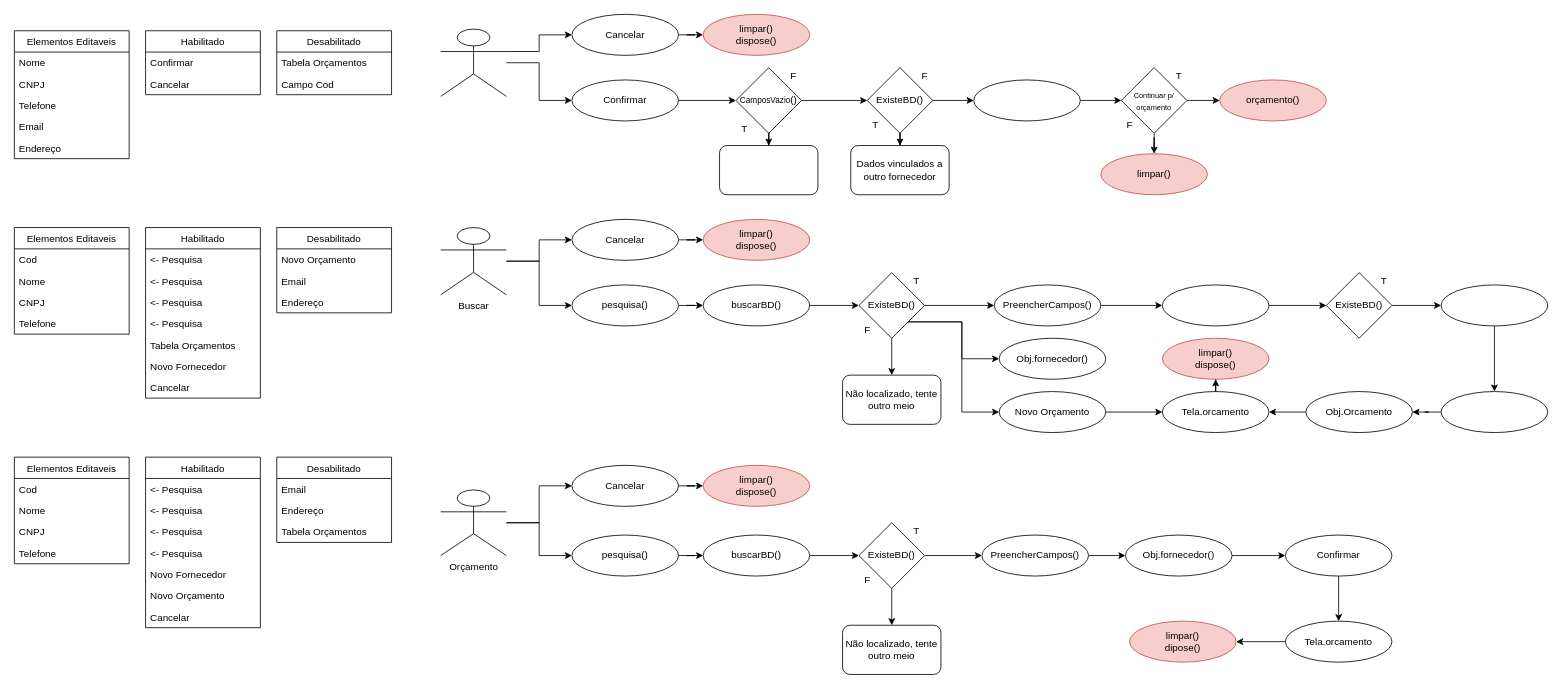
Some shapes in this 1562 by 689 pixel diagram are drawn without their labels. Each missing label, with the centre of its shape:
AbrirOcamento(): the point at 1494,412
Criar: the point at 473,62
InserirBD(): the point at 1026,100
listarTabela(): the point at 1494,305
OrçamentosBD(): the point at 1215,305
Preencher Todos os campos: the point at 768,170
